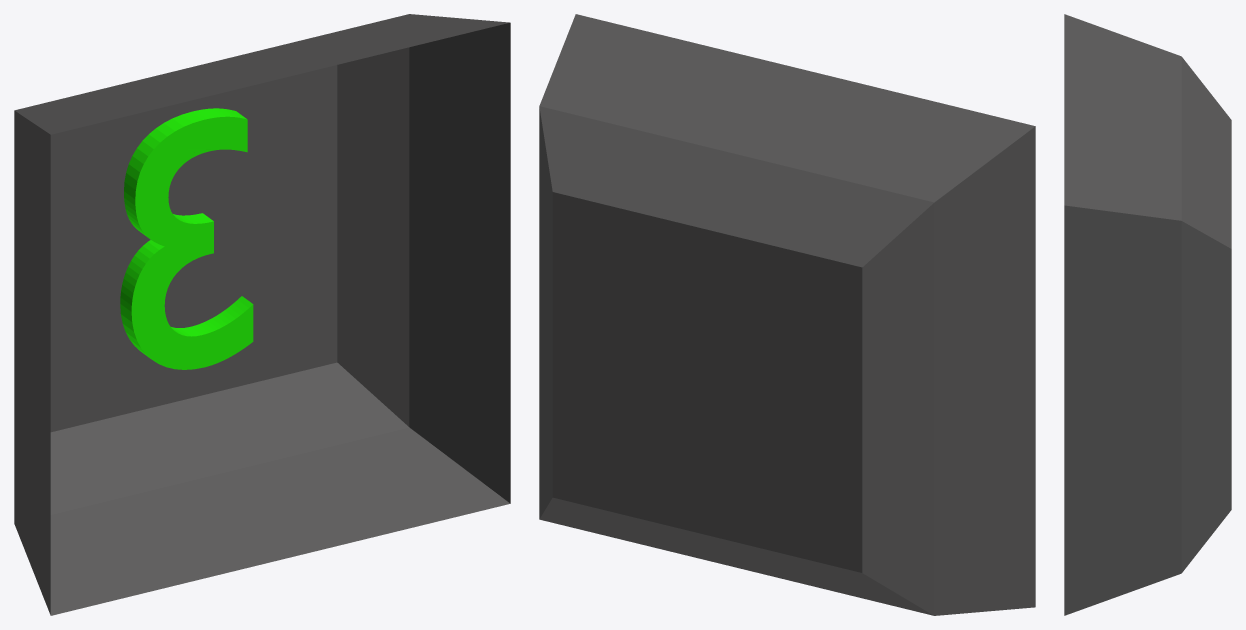
The picture shows the model from 3 angles, left to right: view 1: azimuth 30°, elevation 25°; view 2: azimuth 150°, elevation 25°; view 3: azimuth 270°, elevation 25°; orthographic projection. The views are drawn at different scales.
Parts seen in each view (by area): view 1: key 2.005; view 2: key 2.005; view 3: key 2.005.
Boxes of the visible parts, x1,y1,x2,y2 form: key 2.005: (14, 14, 510, 615); key 2.005: (539, 14, 1035, 615); key 2.005: (1064, 14, 1231, 615).
Bounding box in the file's own units: 4.81 × 4.81 × 1.78.
